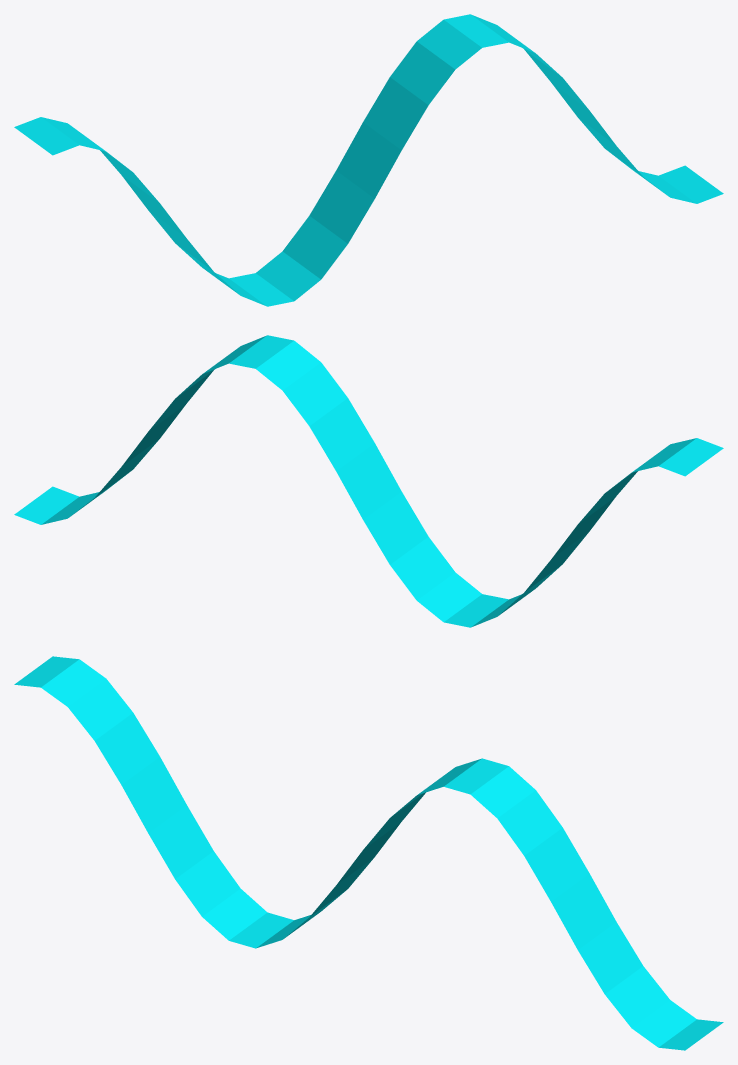
The model's file is video_editing.glb.
3 views of the same model, one above another, from view 1: azimuth 30°, elevation 25°; view 2: azimuth 150°, elevation 25°; view 3: azimuth 330°, elevation 25° (orthographic).
Parts seen in each view (by area): view 1: ribbon; view 2: ribbon; view 3: ribbon.
Part boxes in pixels (left/top/right/bottom): ribbon: left=14, top=14, right=723, bottom=306; ribbon: left=14, top=335, right=723, bottom=627; ribbon: left=14, top=656, right=723, bottom=1050.
Bounding box in the file's own units: 0.2 × 0.0596 × 0.02.
